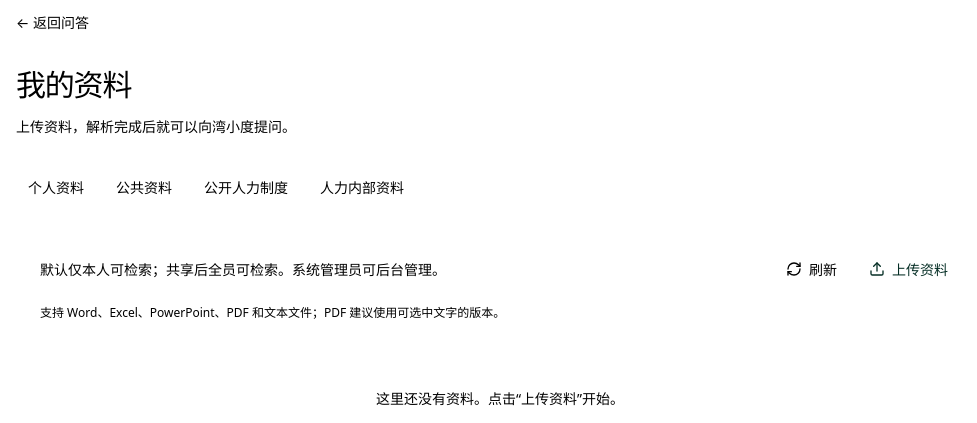
Test: 用户资料和角色 › 人力可以切换到独立内部区上传，公共资料浏览不显示上传按钮
Expected: the button "上传资料" is shown, x1=857 y1=250 x2=960 y2=288
Click the button "公共资料" at (144, 187), box x1=104 y1=168 x2=184 y2=206
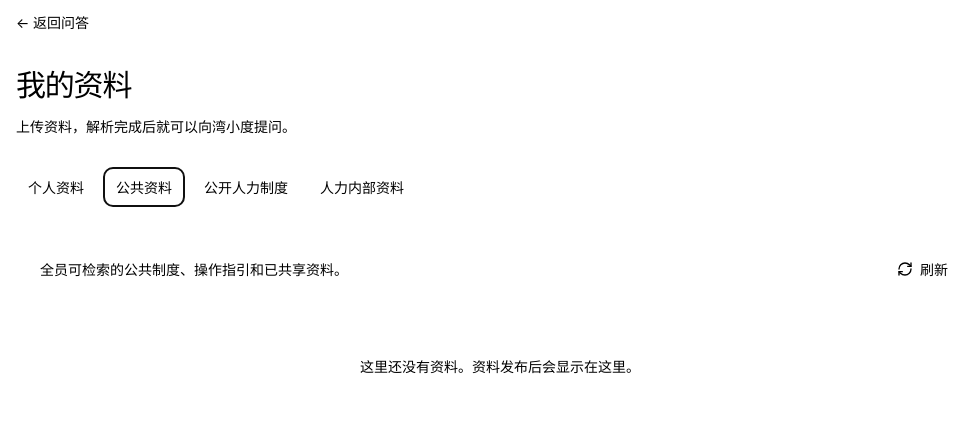
Expected: the text "这里还没有资料。资料发布后会显示在这里。" is shown, x1=360 y1=357 x2=640 y2=376
Click the button "人力内部资料" at (362, 187), box x1=308 y1=168 x2=416 y2=206
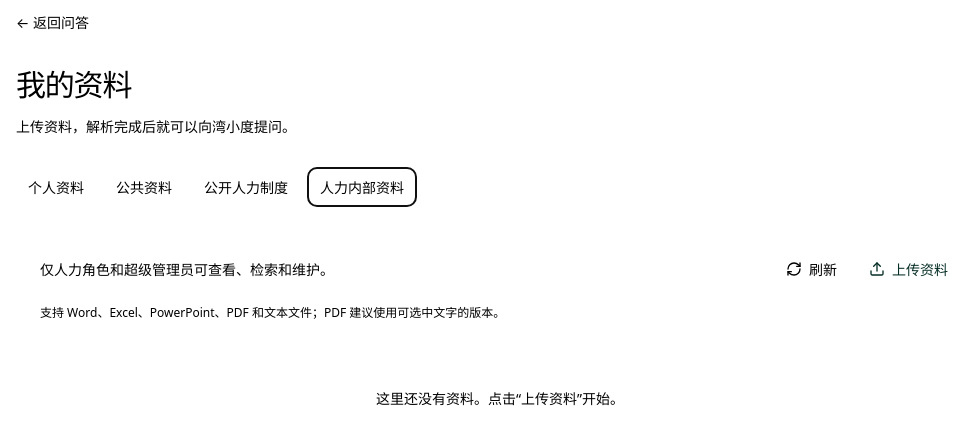
Expected: the button "上传资料" is enabled, x1=857 y1=250 x2=960 y2=288
Expected: the text "仅人力角色和超级管理员可查看、检索和维护。" is shown, x1=40 y1=258 x2=334 y2=281
